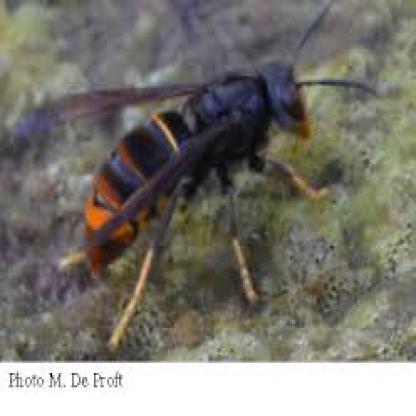asian: (44, 43, 354, 348)
